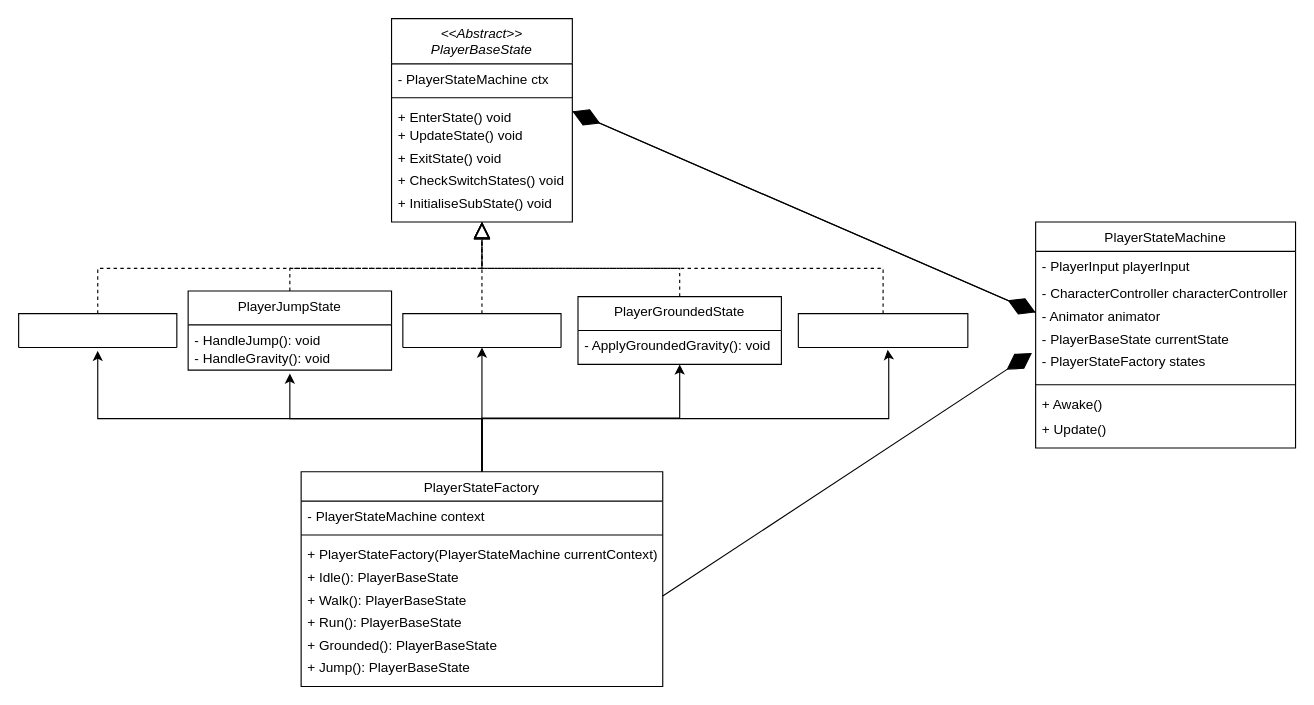
The diagram is 1314 pixels wide and 705 high, and some of its shapes have lost their labels. The centre of each missing label's shape, as x and y in pixels:
"PlayerIdleState" goes at (97,329).
"PlayerRunState" goes at (481,329).
"PlayerWalkState" goes at (882,329).
